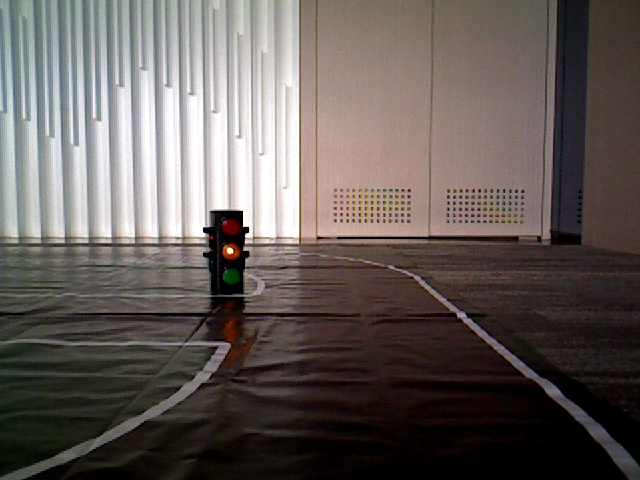yellow: (214, 215, 242, 287)
